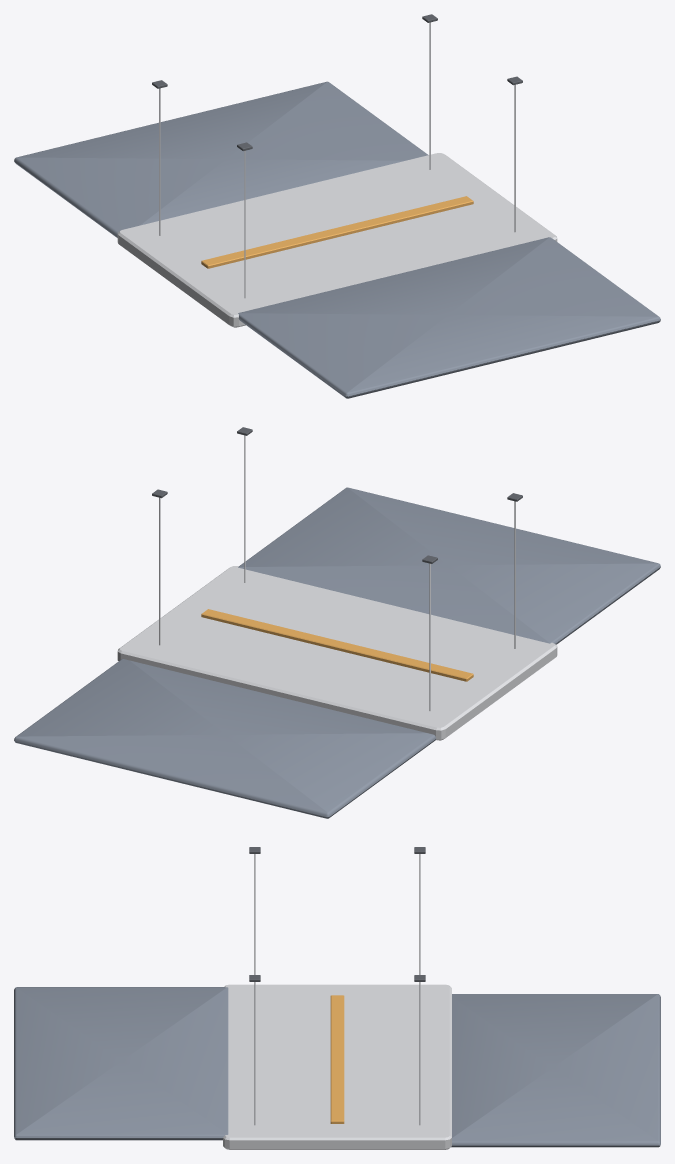
Rendered from office-lobby-and-facilities-acoustic-ceiling-raft-8b3b73df__26313.glb.
The picture shows the model from 3 angles, top to bottom: view 1: azimuth 30°, elevation 25°; view 2: azimuth 150°, elevation 25°; view 3: azimuth 270°, elevation 25°; orthographic projection. The views are drawn at different scales.
Visible parts, largest first — view 1: acoustic-ceiling-raft; view 2: acoustic-ceiling-raft; view 3: acoustic-ceiling-raft.
Boxes of the visible parts, x1,y1,x2,y2 form: acoustic-ceiling-raft: [14, 14, 660, 398]; acoustic-ceiling-raft: [14, 427, 660, 818]; acoustic-ceiling-raft: [14, 847, 660, 1149].
Bounding box in the file's own units: 1.6 × 0.7721 × 2.82.
